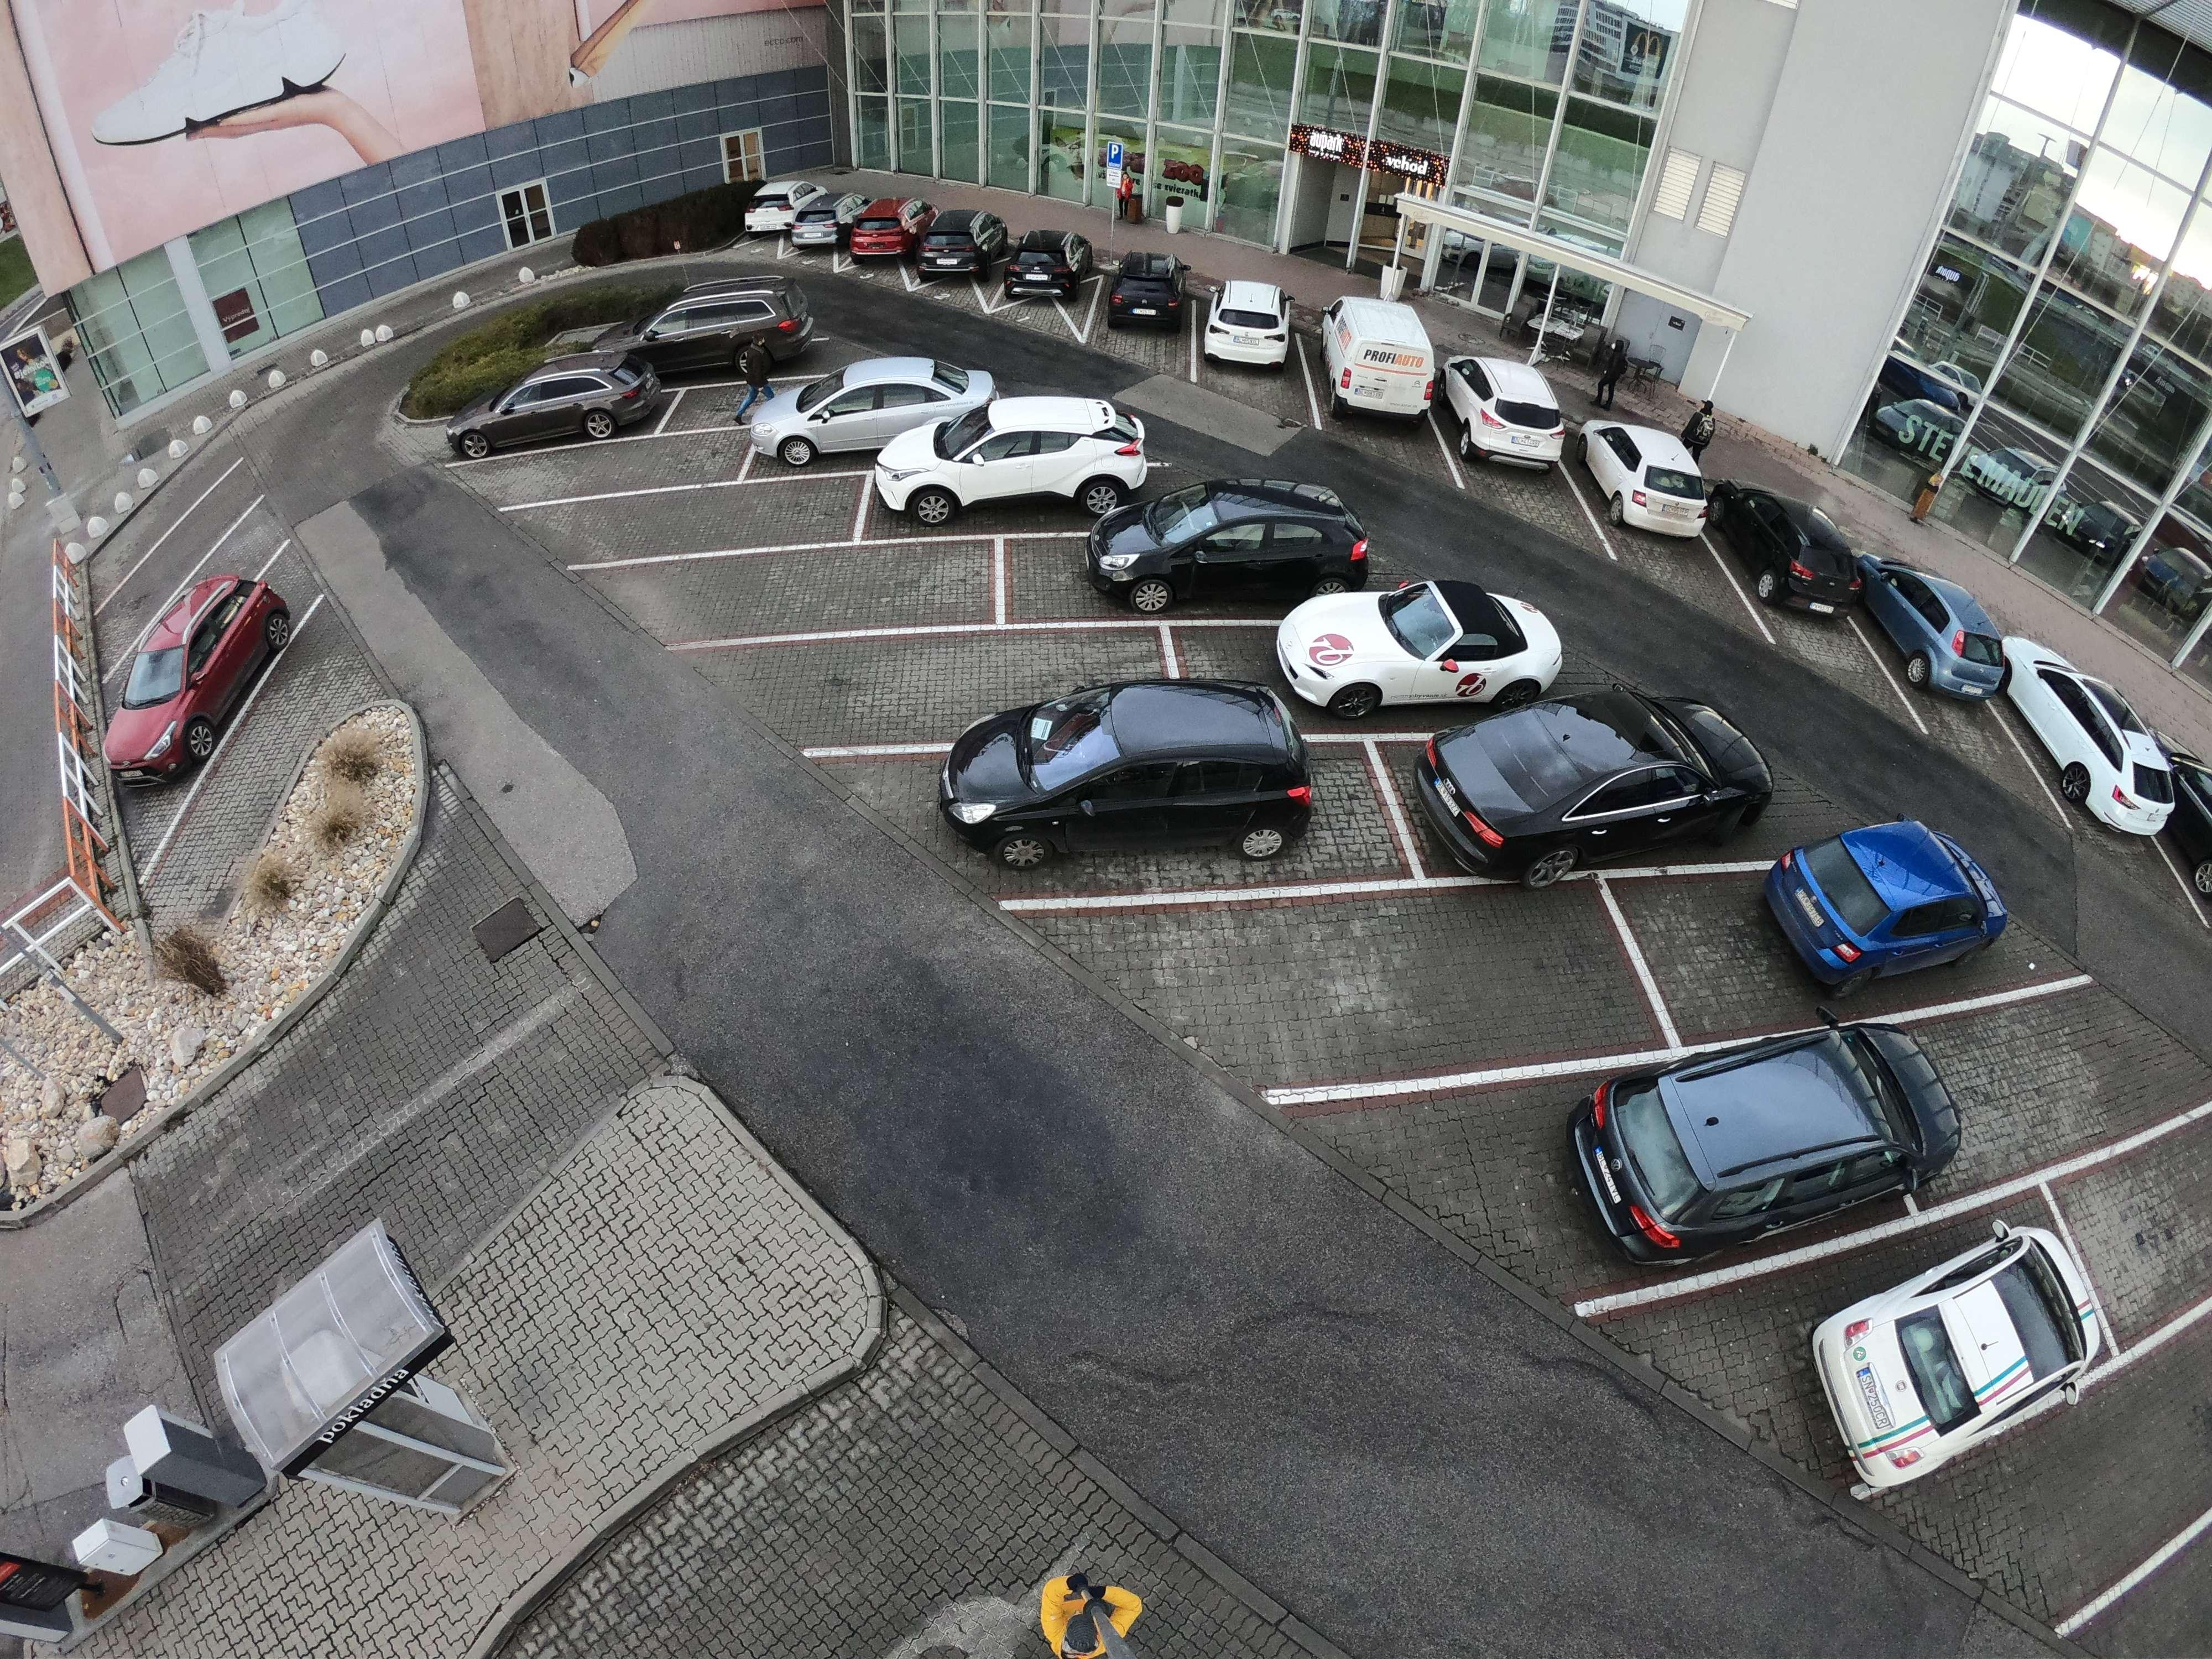empty: (1810, 1225, 2158, 1495), (1566, 1026, 1940, 1262), (918, 667, 1346, 868), (1421, 701, 1756, 863), (1768, 817, 2015, 990), (1261, 579, 1552, 723), (878, 389, 1148, 538), (1089, 477, 1374, 617), (96, 580, 287, 774), (1982, 657, 2184, 826), (747, 350, 979, 474), (453, 361, 665, 462), (1714, 495, 1872, 629), (1860, 568, 2013, 699), (1573, 413, 1716, 549), (1312, 295, 1446, 430), (1442, 350, 1578, 477), (646, 286, 806, 382), (1204, 272, 1305, 378), (1096, 251, 1197, 336), (996, 225, 1096, 307), (909, 211, 1001, 284), (848, 209, 911, 267), (792, 204, 859, 258)
occupied: (1939, 1410, 2170, 1596), (1381, 936, 1597, 1079), (1951, 1032, 2125, 1145), (944, 624, 1101, 714), (773, 525, 888, 647), (207, 688, 315, 800), (122, 498, 207, 605), (617, 484, 728, 559), (563, 448, 665, 491)
